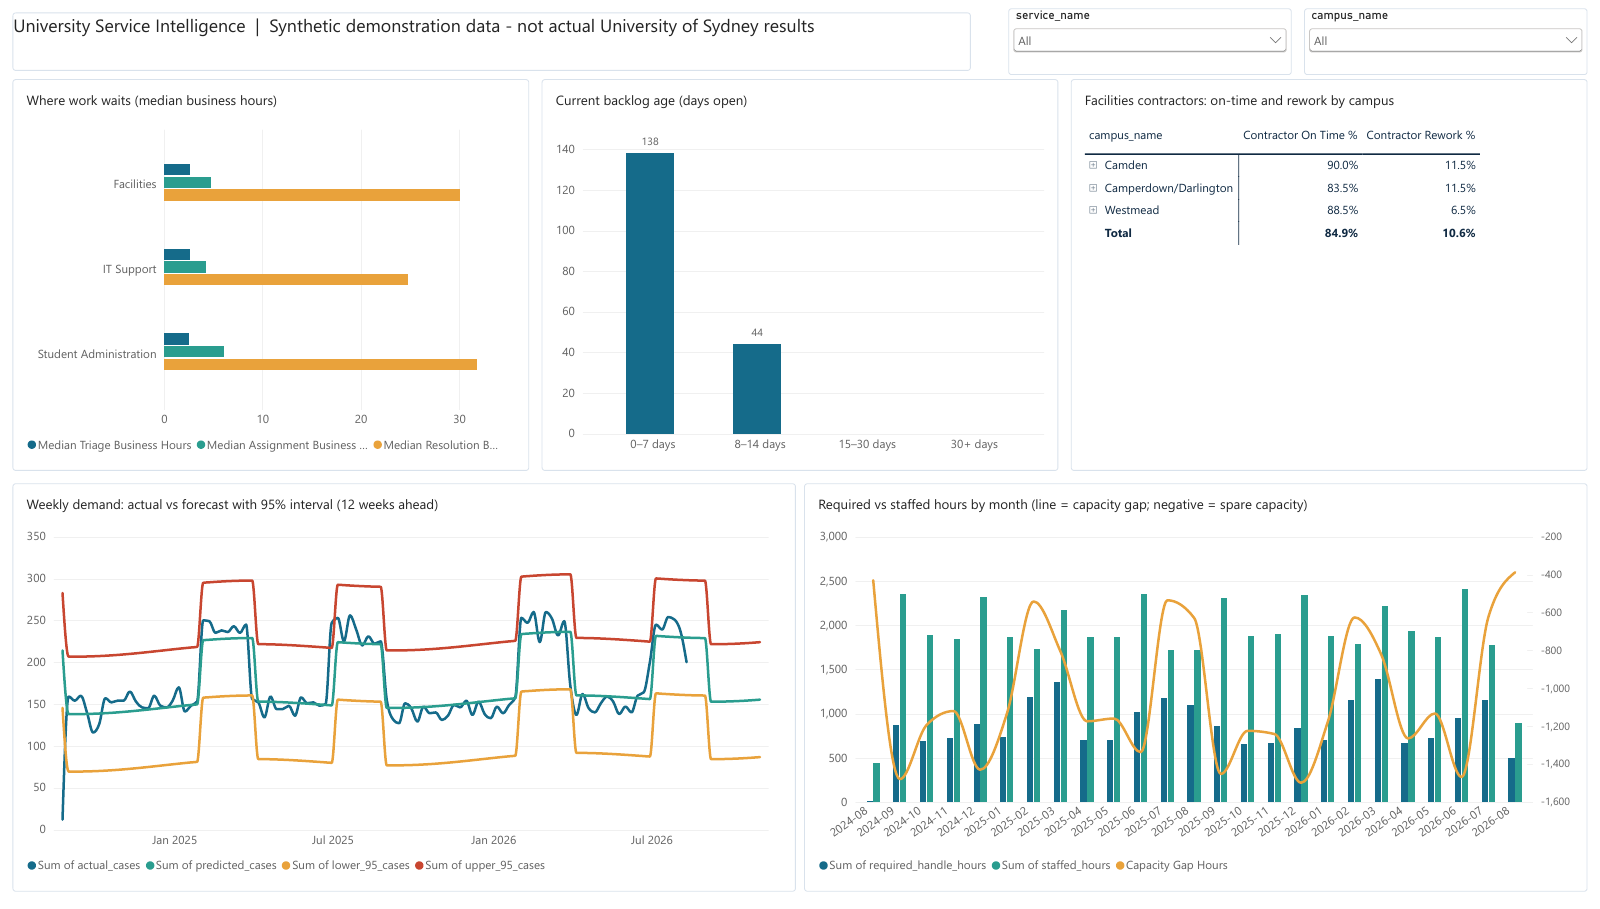

Layout of this report page (visuals, bound fields, positions):
{"tool":"powerbi","page":{"name":"Bottlenecks & Capacity","canvas":[1920,1080],"ordinal":1},"visuals":[{"type":"clusteredBarChart","title":"Where work waits (median business hours)","fields":{"Category":["DimService.service_name"],"Y":["_Measures.Median Triage Business Hours","_Measures.Median Assignment Business Hours","_Measures.Median Resolution Business Hours"]},"box":[15,90,620,470],"z":0},{"type":"clusteredColumnChart","title":"Current backlog age (days open)","fields":{"Category":["AgeingBand.band"],"Y":["_Measures.Open Backlog by Age Band"]},"box":[650,90,620,470],"z":1000},{"type":"lineChart","title":"Weekly demand: actual vs forecast with 95% interval (12 weeks ahead)","fields":{"Y":["Sum(FactDemandForecast.actual_cases)","Sum(FactDemandForecast.predicted_cases)","Sum(FactDemandForecast.lower_95_cases)","Sum(FactDemandForecast.upper_95_cases)"],"Category":["FactDemandForecast.week_start"]},"box":[15,575,940,490],"z":2000},{"type":"lineClusteredColumnComboChart","title":"Required vs staffed hours by month (line = capacity gap; negative = spare capacity)","fields":{"Y":["Sum(FactCapacityWeekly.required_handle_hours)","Sum(FactCapacityWeekly.staffed_hours)"],"Y2":["_Measures.Capacity Gap Hours"],"Category":["DimDate.year_month"]},"box":[965,575,940,490],"z":3000},{"type":"pivotTable","title":"Facilities contractors: on-time and rework by campus","fields":{"Rows":["DimCampus.campus_name","FactWorkOrder.category"],"Values":["_Measures.Contractor On Time %","_Measures.Contractor Rework %"]},"box":[1285,90,620,470],"z":4000},{"type":"textbox","box":[15,10,1150,70],"z":4001},{"type":"slicer","fields":{"Values":["DimService.service_name"]},"box":[1210,5,340,80],"z":4002},{"type":"slicer","fields":{"Values":["DimCampus.campus_name"]},"box":[1565,5,340,80],"z":4003}]}

Visuals, with their boxes in screenshot pixels (x1, y1, x2, y2), scaled from the page's 1920x1080 canvas onto the 1600x909 screenshot:
"Where work waits (median business hours)" clusteredBarChart: pyautogui.locateOnScreen(12, 76, 529, 471)
"Current backlog age (days open)" clusteredColumnChart: pyautogui.locateOnScreen(542, 76, 1058, 471)
"Weekly demand: actual vs forecast with 95% interval (12 weeks ahead)" lineChart: pyautogui.locateOnScreen(12, 484, 796, 896)
"Required vs staffed hours by month (line = capacity gap; negative = spare capacity)" lineClusteredColumnComboChart: pyautogui.locateOnScreen(804, 484, 1588, 896)
"Facilities contractors: on-time and rework by campus" pivotTable: pyautogui.locateOnScreen(1071, 76, 1588, 471)
textbox: pyautogui.locateOnScreen(12, 8, 971, 67)
slicer - DimService.service_name: pyautogui.locateOnScreen(1008, 4, 1292, 72)
slicer - DimCampus.campus_name: pyautogui.locateOnScreen(1304, 4, 1588, 72)
